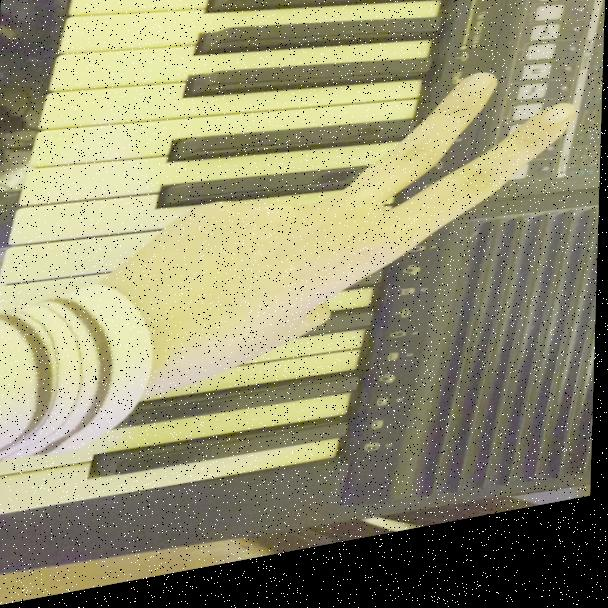two: (83, 70, 584, 406)
